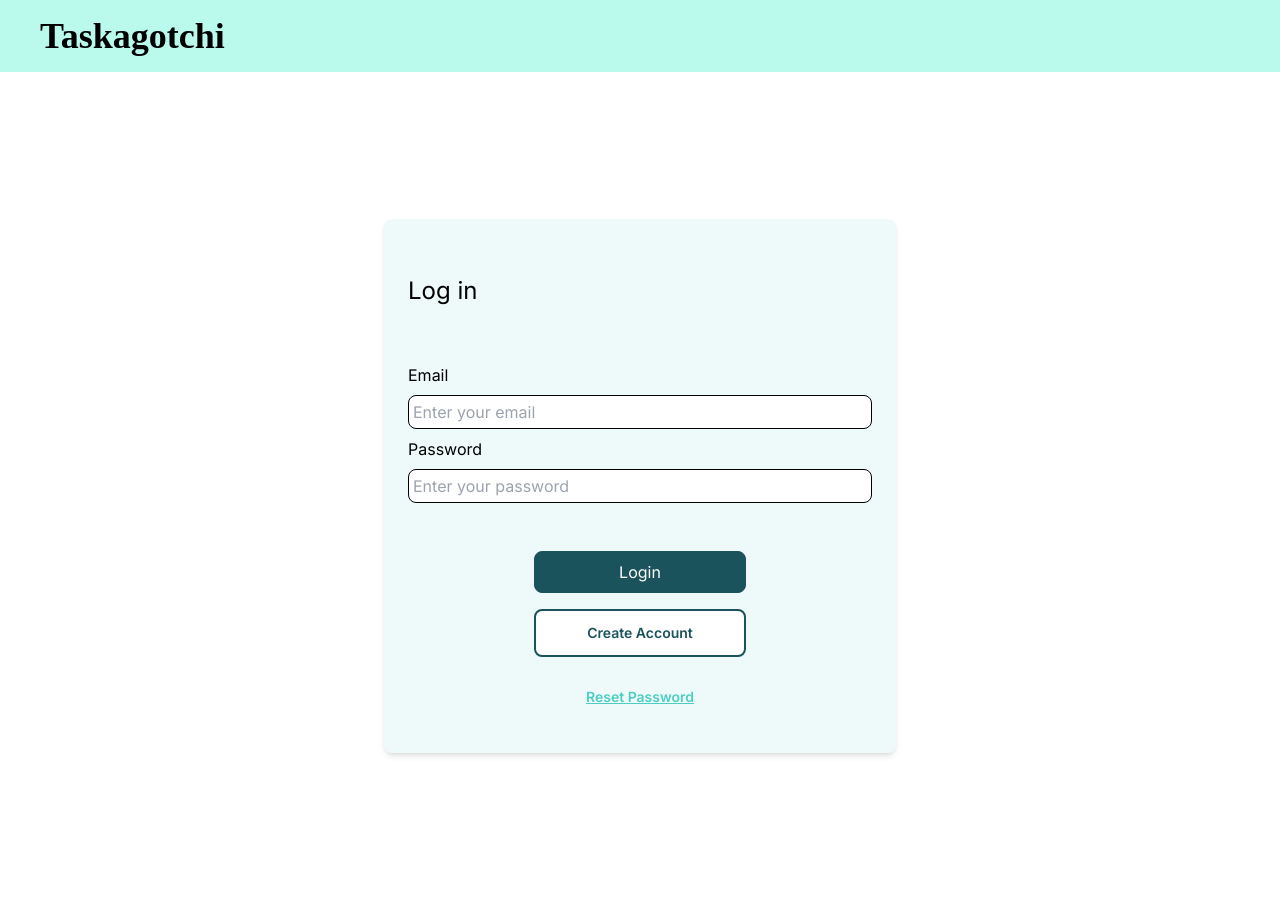
Test: Login Component › shows error on invalid login
This screenshot has width=1280, height=900.
Type "wrong@example.com" into the field with placeholder "Enter your email". click: (640, 412)
box: [408,395,872,429]
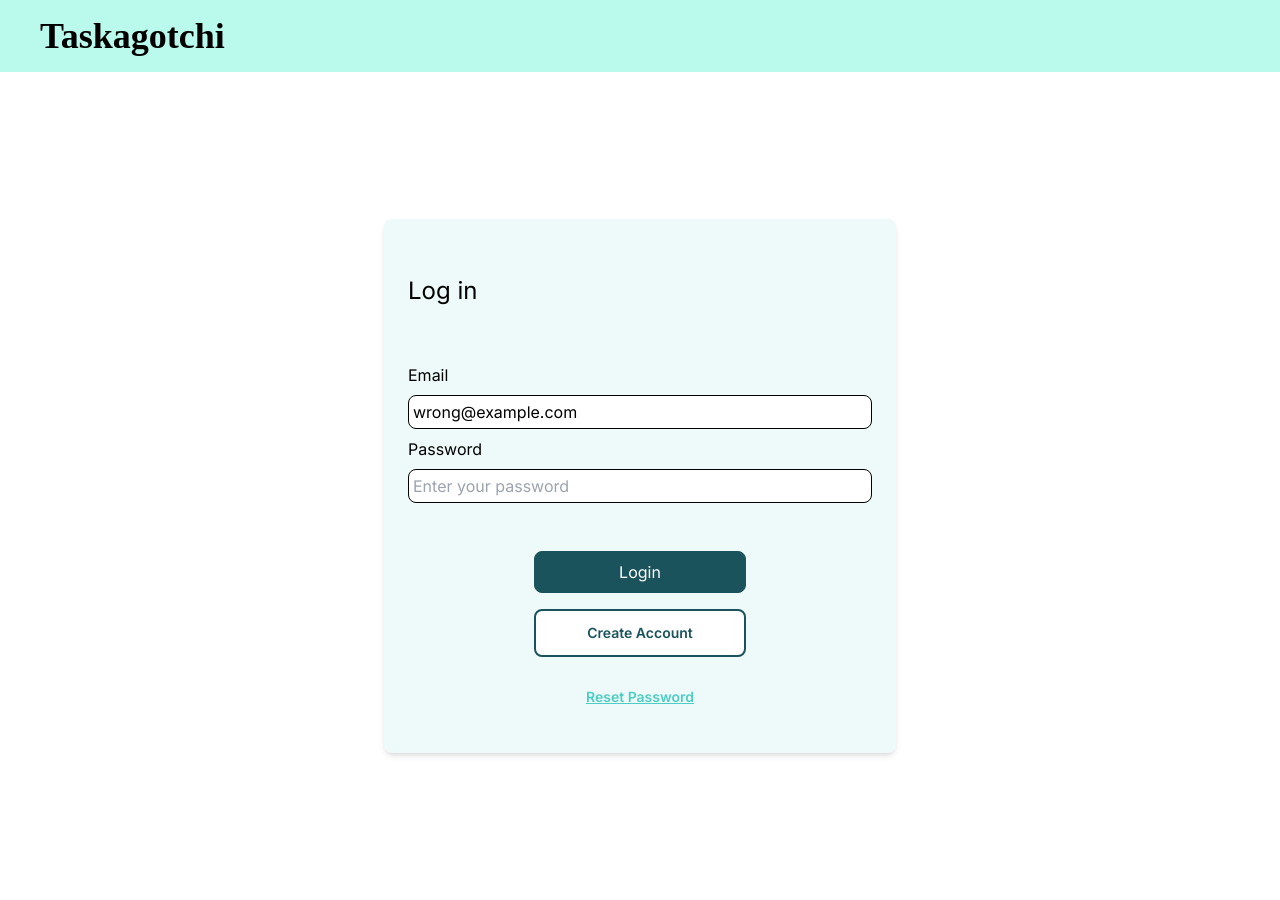
Type "wrongpassword" into the password field with placeholder "Enter your password". click: (640, 486)
box: [408,469,872,503]
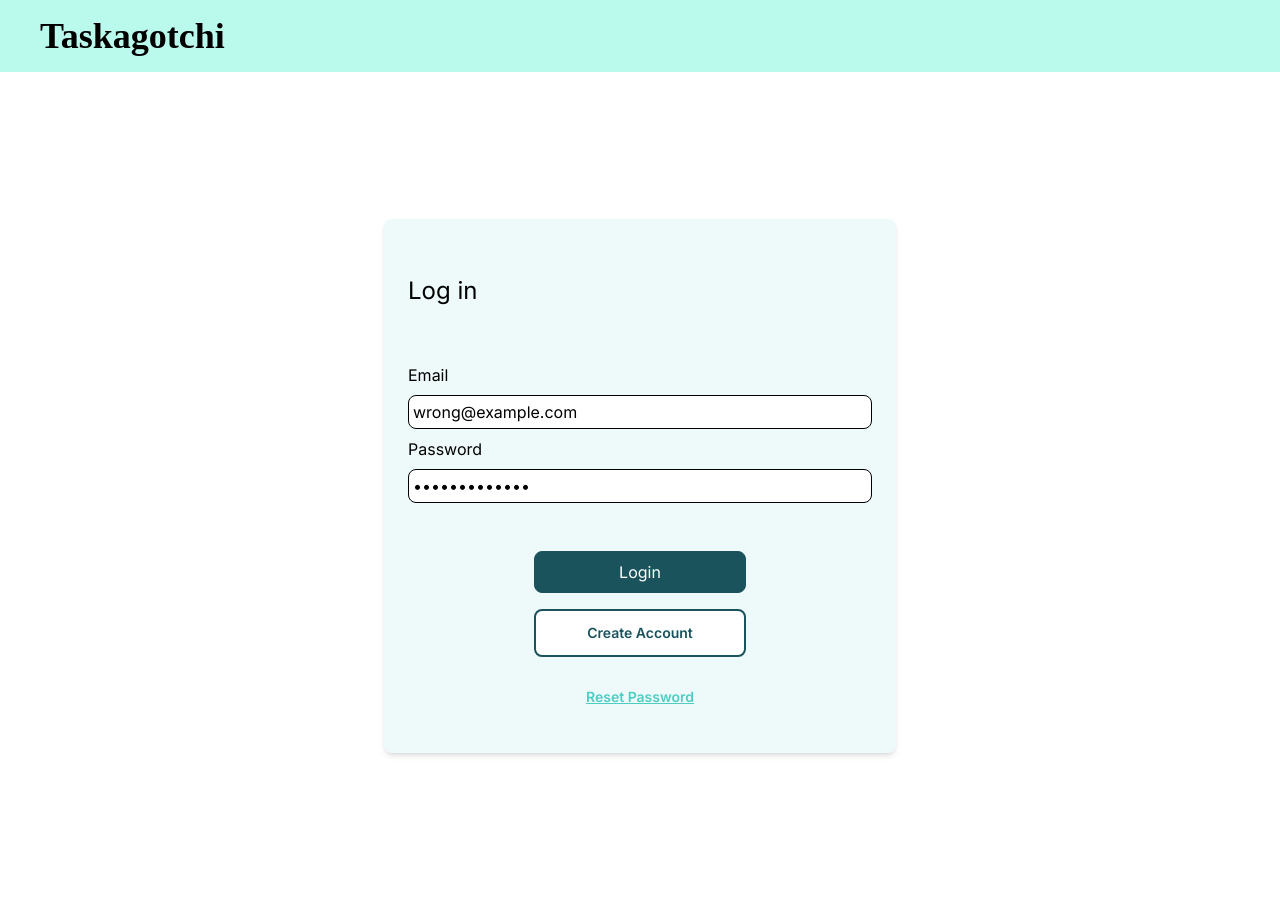
Click the button "Login". click: (640, 572)
box: [534,551,746,593]
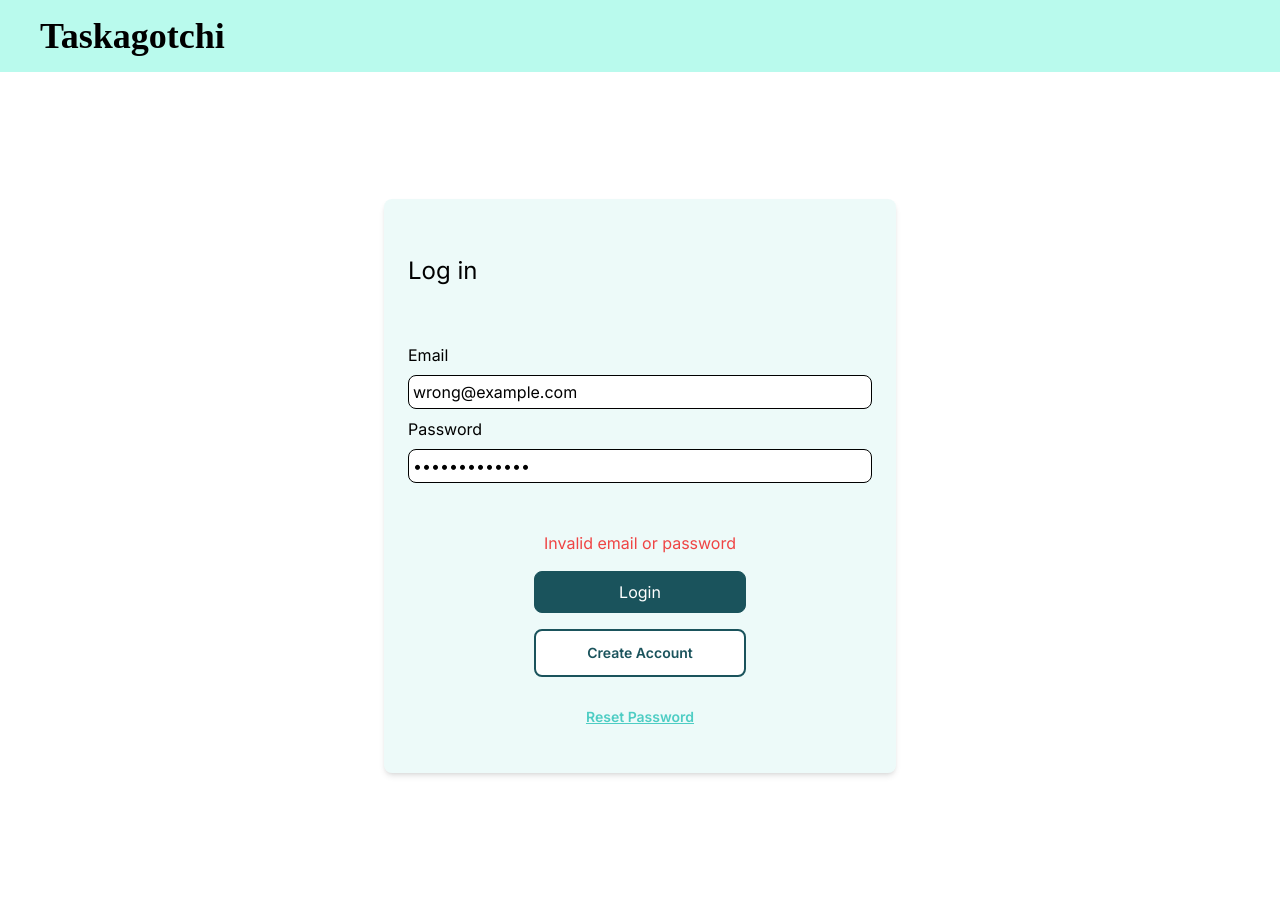
Expected: the text "Invalid email or password" is shown, [544,533,736,553]
